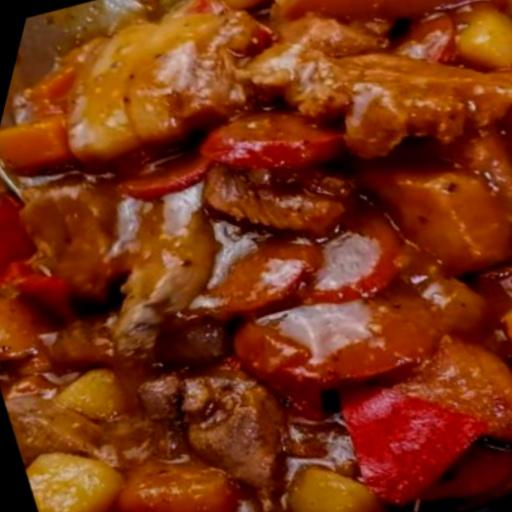pork caldereta: (0, 2, 511, 511)
